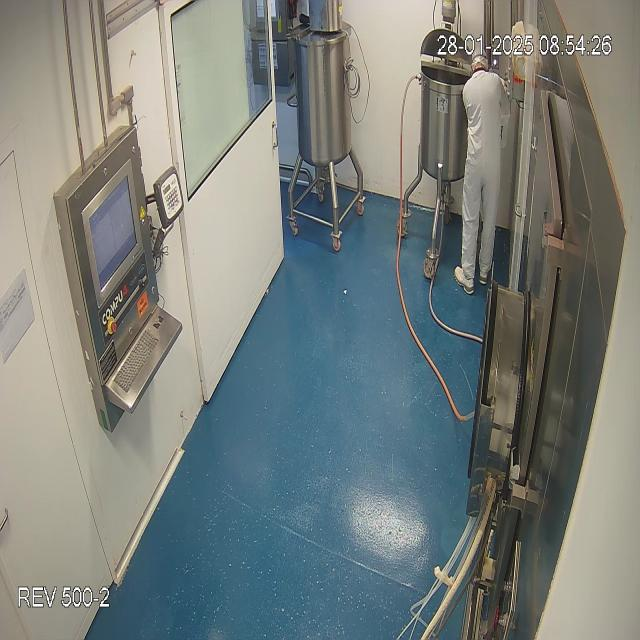bota: (452, 261, 496, 296)
pessoa: (452, 58, 516, 297)
touca: (468, 47, 494, 75)
